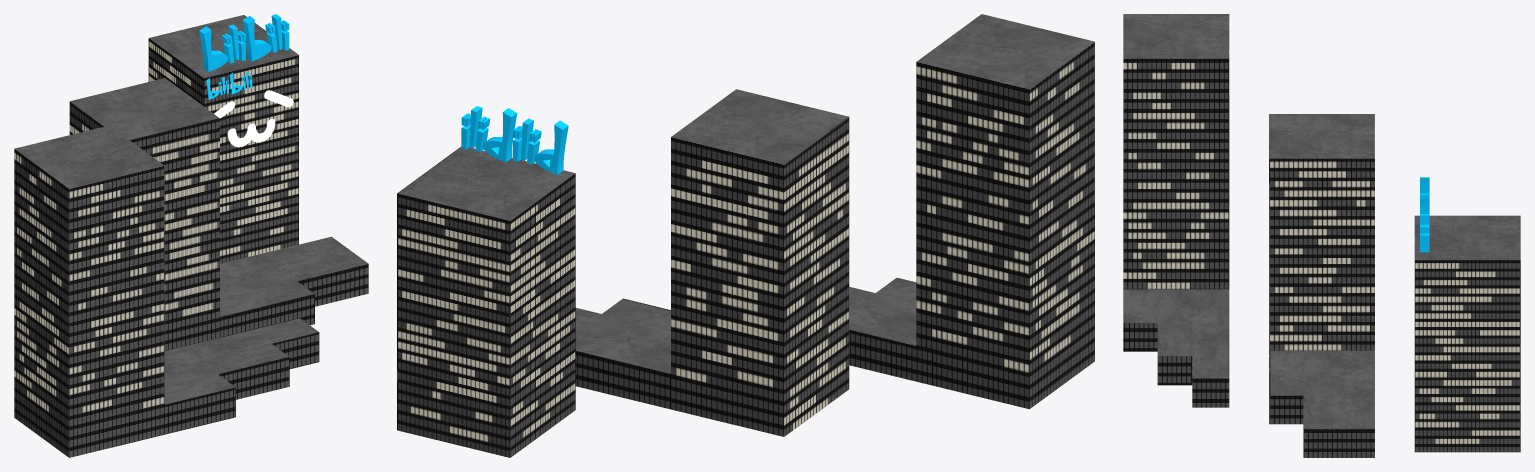
Rendered from capitalLand.gltf.
The picture shows the model from 3 angles, left to right: view 1: azimuth 30°, elevation 25°; view 2: azimuth 150°, elevation 25°; view 3: azimuth 270°, elevation 25°; orthographic projection. The views are drawn at different scales.
Parts seen in each view (by area): view 1: Cd1, Cd2, Cd3, B; view 2: Cd1, Cd2, Cd3, B; view 3: Cd1, Cd2, Cd3, B.
Boxes of the visible parts, x1=… form: Cd1: x1=14, y1=125, x2=319, y2=457; Cd2: x1=69, y1=78, x2=368, y2=350; Cd3: x1=148, y1=15, x2=298, y2=263; B: x1=199, y1=14, x2=289, y2=71; Cd1: x1=849, y1=14, x2=1094, y2=409; Cd2: x1=575, y1=89, x2=849, y2=436; Cd3: x1=397, y1=147, x2=575, y2=457; B: x1=461, y1=106, x2=568, y2=174; Cd1: x1=1123, y1=14, x2=1229, y2=407; Cd2: x1=1269, y1=114, x2=1374, y2=457; Cd3: x1=1414, y1=215, x2=1520, y2=452; B: x1=1420, y1=177, x2=1429, y2=252.
Bounding box in the file's own units: 165 × 108 × 150.
